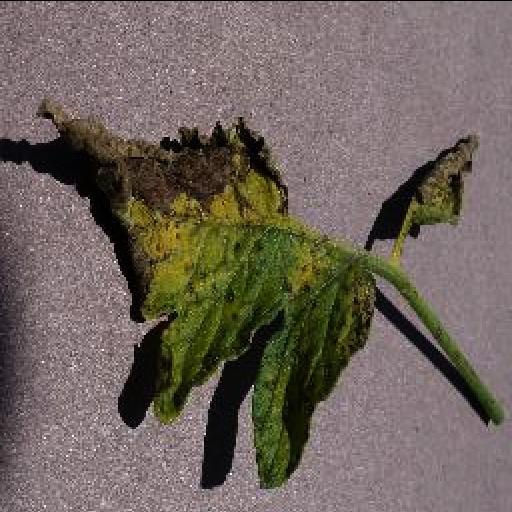disease_tomato: (38, 94, 378, 488)
